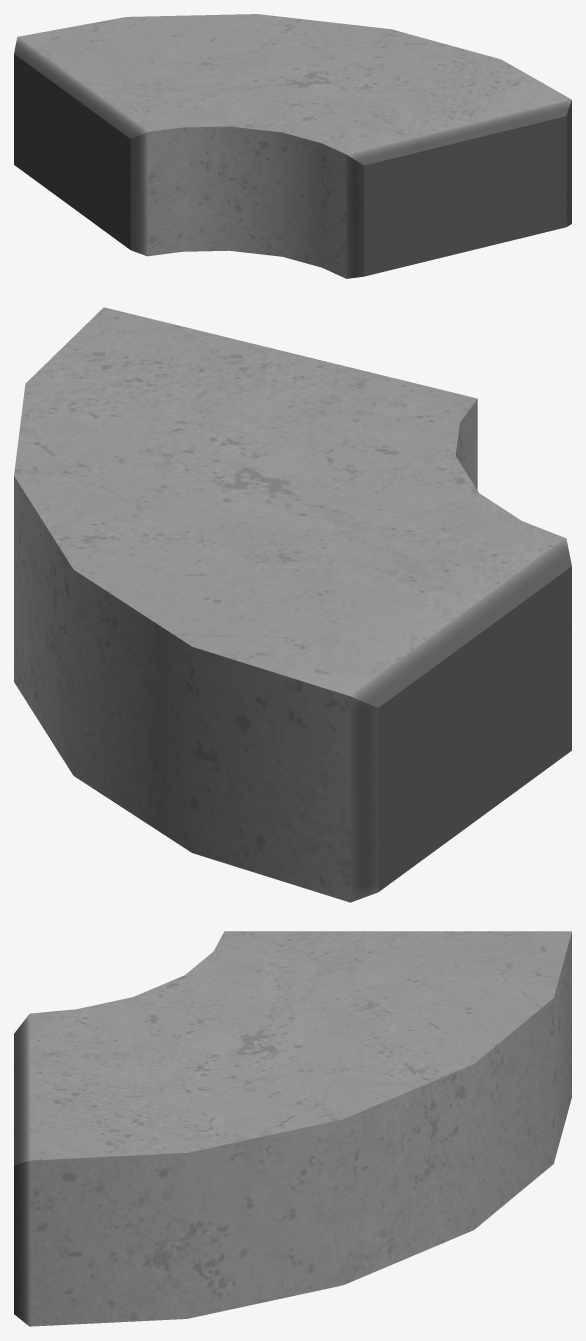
File: Env_PavementCorner.fbx
The picture shows the model from 3 angles, top to bottom: view 1: azimuth 30°, elevation 25°; view 2: azimuth 150°, elevation 25°; view 3: azimuth 270°, elevation 25°; orthographic projection. The views are drawn at different scales.
Parts seen in each view (by area): view 1: Env_PavementCorner; view 2: Env_PavementCorner; view 3: Env_PavementCorner.
Part boxes in pixels (x1=…): Env_PavementCorner: x1=14, y1=14, x2=571, y2=278; Env_PavementCorner: x1=14, y1=307, x2=571, y2=902; Env_PavementCorner: x1=14, y1=931, x2=571, y2=1326.
Size of the model in its own units: 39.98 by 13.13 by 39.98.
